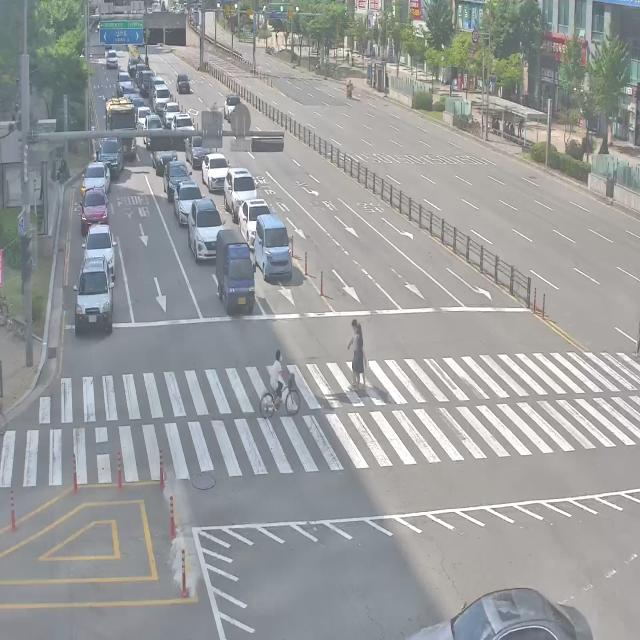Car: (409, 586, 593, 639), (214, 229, 256, 317), (72, 255, 114, 336), (252, 213, 294, 283), (188, 198, 225, 264), (222, 162, 256, 216), (237, 189, 270, 242), (161, 154, 195, 197), (78, 188, 111, 232), (173, 177, 202, 223), (98, 139, 127, 183), (81, 161, 109, 200), (201, 153, 229, 191), (182, 133, 208, 168), (148, 140, 178, 170), (143, 115, 165, 143), (172, 110, 194, 136), (140, 69, 158, 100), (225, 93, 242, 124), (152, 85, 170, 113), (173, 69, 190, 96), (163, 100, 179, 123), (137, 109, 153, 132), (131, 97, 145, 122), (106, 48, 120, 71), (127, 54, 141, 77), (135, 61, 147, 86), (117, 69, 132, 89)
Motorcycle: (342, 77, 357, 104)
Truck: (99, 96, 138, 161)
